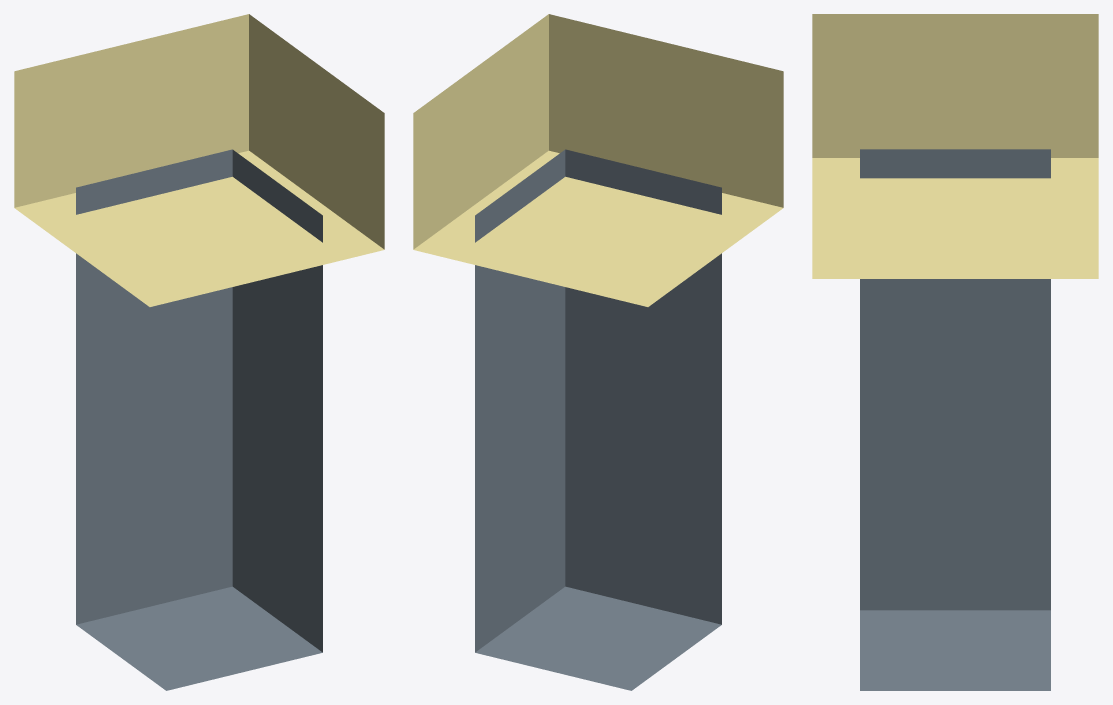
File: beacon.glb
The picture shows the model from 3 angles, left to right: view 1: azimuth 30°, elevation 25°; view 2: azimuth 150°, elevation 25°; view 3: azimuth 270°, elevation 25°; orthographic projection. The views are drawn at different scales.
Parts seen in each view (by area): view 1: Pillar, Lamp; view 2: Pillar, Lamp; view 3: Pillar, Lamp.
Part boxes in pixels (x1,y1,x2,y2): Pillar: (76,149,322,690); Lamp: (14,14,384,306); Pillar: (475,149,721,690); Lamp: (413,14,783,306); Pillar: (860,149,1050,690); Lamp: (812,14,1098,278).
Size of the model in its own units: 0.9 by 2 by 0.9.
